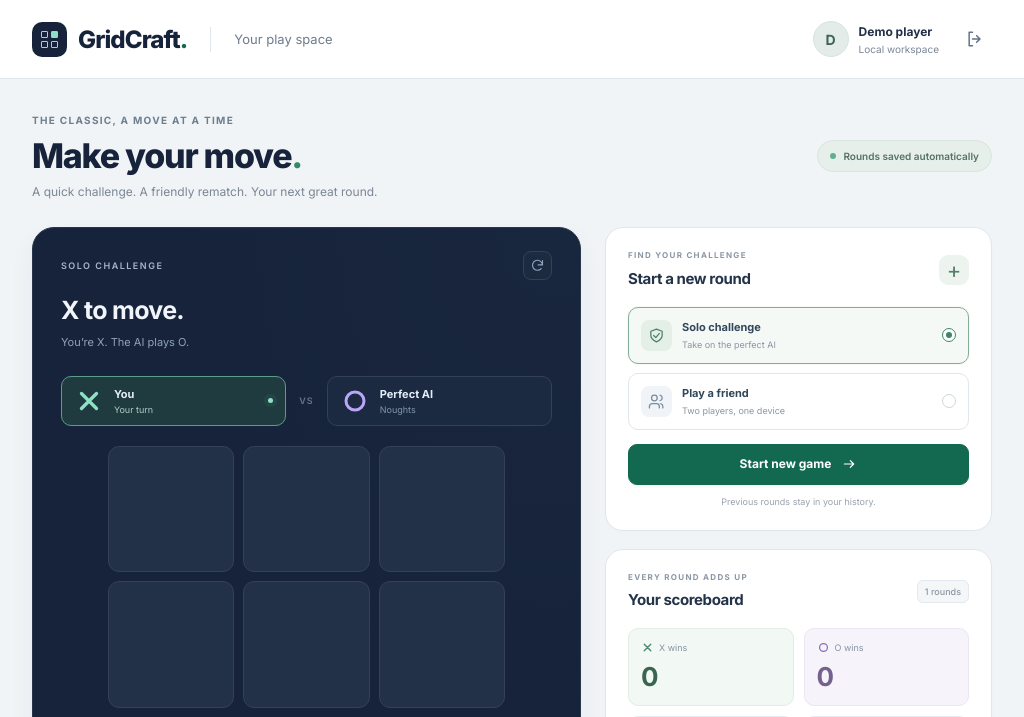
Test: a move uses server version and displays the returned human and AI moves
Expected: the heading "Make your move." is shown, [32,135,302,176]
Expected: the button "Start new game" is enabled, [628,444,969,485]
Click the cell named "Row 1, column 1, empty" at (171, 509), box [108,446,234,572]
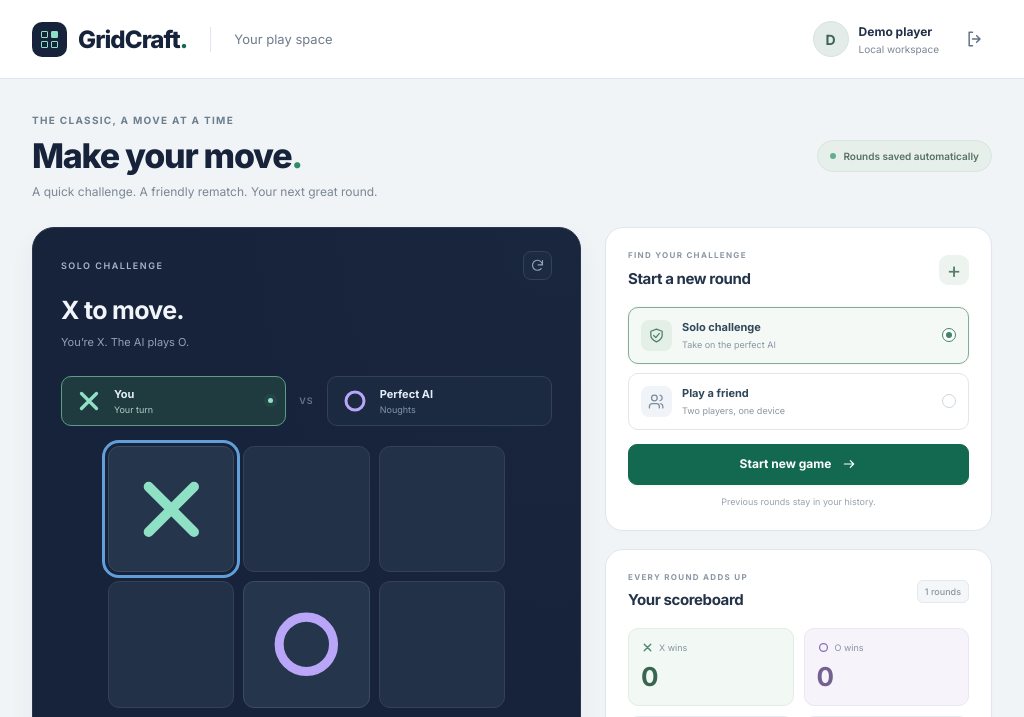
Expected: the cell named "Row 1, column 1, X" is shown, [108,446,234,572]
Expected: the cell named "Row 2, column 2, O" is shown, [243,581,370,708]
